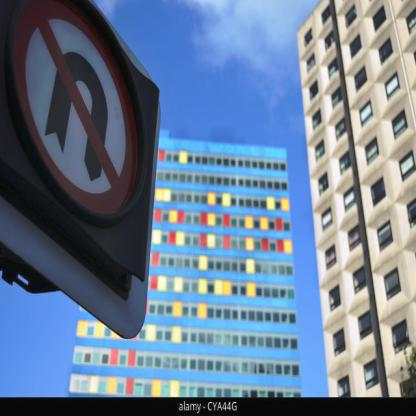No U-turn: (16, 0, 153, 216)
